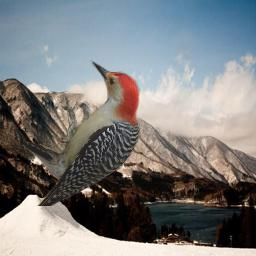Woodpecker: (24, 60, 145, 206)
